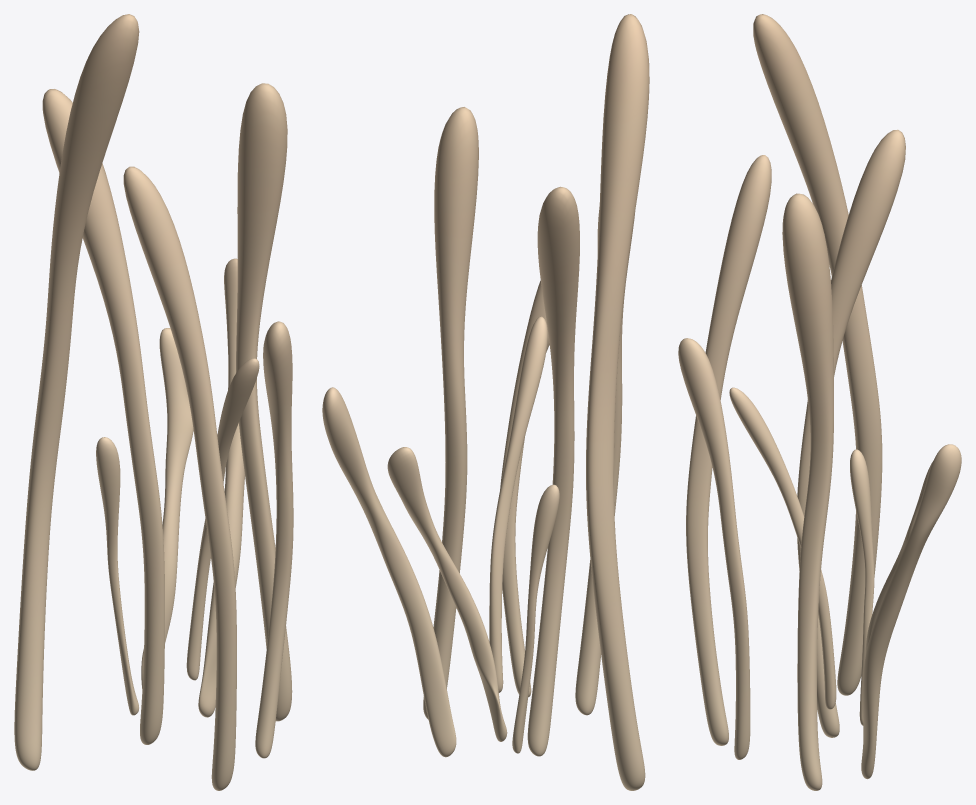
Rendered from sm_coralli_lunghi.fbx.
The picture shows the model from 3 angles, left to right: view 1: azimuth 30°, elevation 25°; view 2: azimuth 150°, elevation 25°; view 3: azimuth 270°, elevation 25°; orthographic projection. The views are drawn at different scales.
Parts seen in each view (by area): view 1: sm_coralli_lunghi; view 2: sm_coralli_lunghi; view 3: sm_coralli_lunghi.
Part boxes in pixels (left/top/right/bottom): sm_coralli_lunghi: left=14, top=14, right=293, bottom=790; sm_coralli_lunghi: left=322, top=14, right=649, bottom=790; sm_coralli_lunghi: left=678, top=14, right=961, bottom=790.
Bounding box in the file's own units: 6.56 × 6.25 × 17.12.
